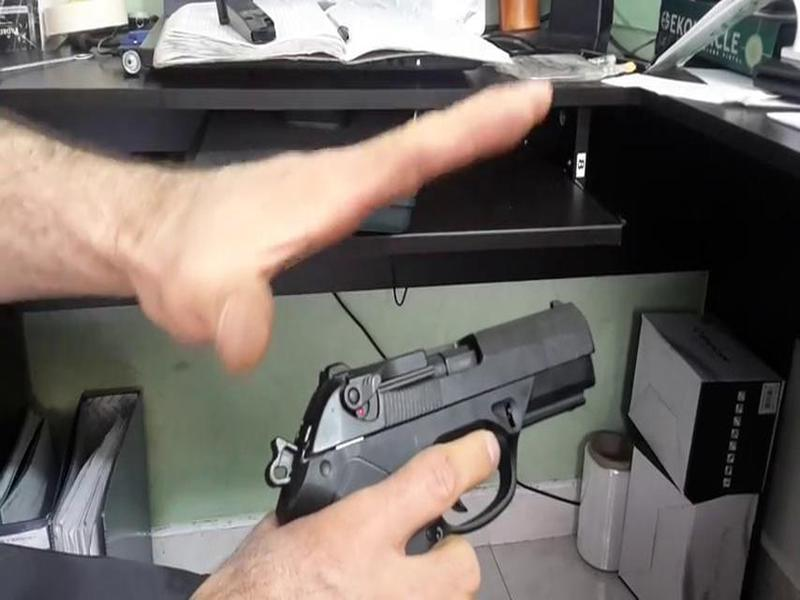Pistola: (268, 287, 610, 540)
